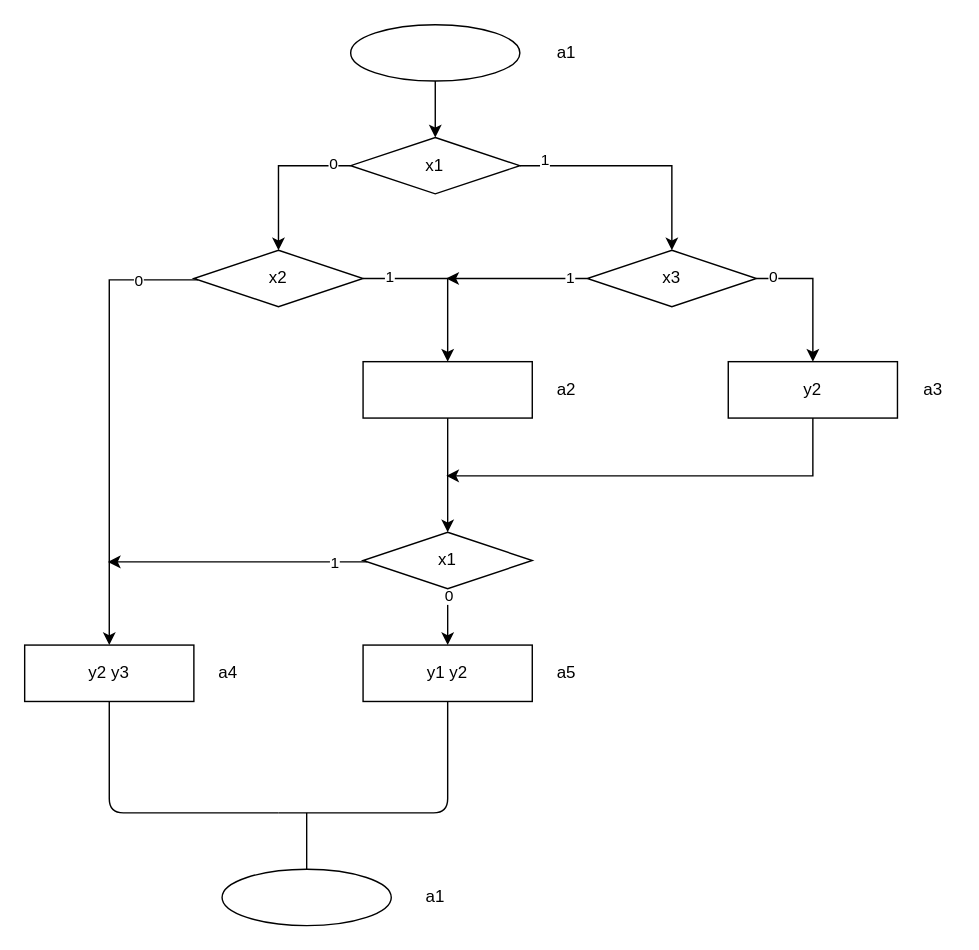
This 979x950 diagram has some shape labels left out. Each missing label, with the box of its shape:
y1: (362, 360, 532, 418)
Конец: (221, 868, 391, 926)
Начало: (349, 23, 520, 81)
